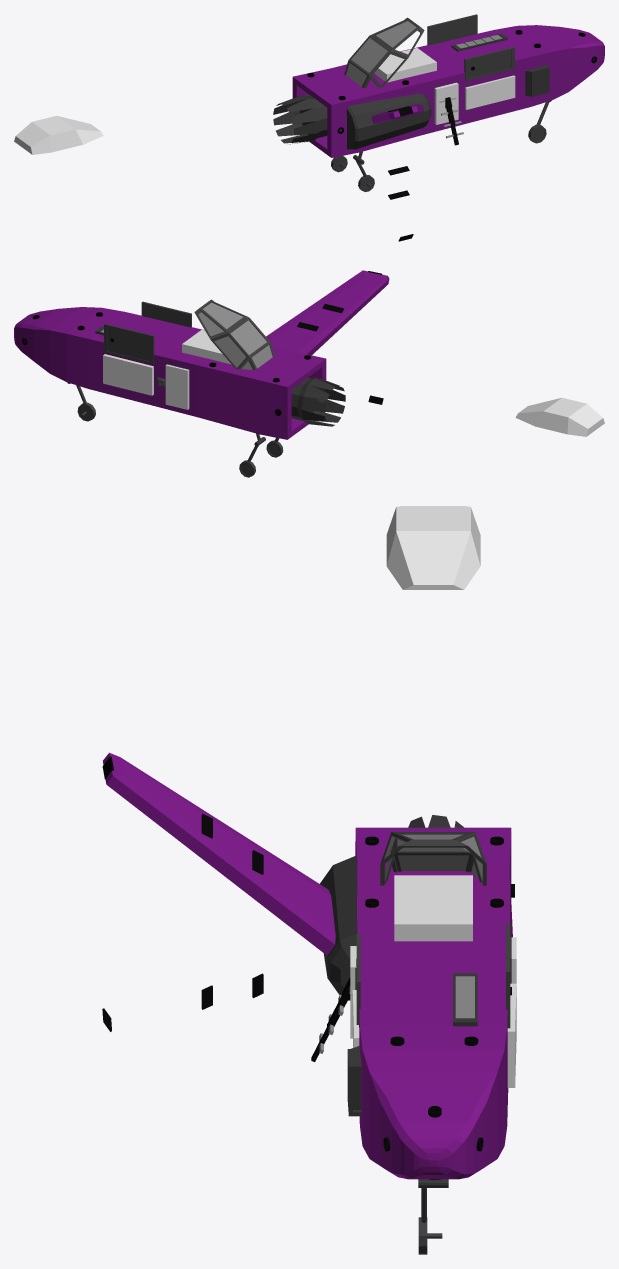
The model's file is FighterGen7_purple_open.glb.
3 views of the same model, one above another, from view 1: azimuth 30°, elevation 25°; view 2: azimuth 150°, elevation 25°; view 3: azimuth 270°, elevation 25° (orthographic). The views are drawn at different scales.
Parts seen in each view (by area): view 1: Body, Cylinder, Cube.100, Cylinder.002, Cube.090, Cube.021, Cube.099, Cube.116, Cube.114, Cube.080, Cube.043, Cube.104 (+2 smaller); view 2: Body, Cube.003, Cube.100, Cylinder.002, Cube.022, Cube.114, Cube.099, Cube.072, Cube.090, Cube.116, Cube.104, Cube.102 (+1 smaller); view 3: Body, Cube.003, Cube.100, Cube.090, Cylinder, Cube.099, Cube.106, Cube.043.
Part boxes in pixels (bbox=[...]): Body: bbox=[292, 25, 604, 157]; Cylinder: bbox=[346, 93, 431, 149]; Cube.100: bbox=[14, 115, 103, 154]; Cylinder.002: bbox=[273, 95, 327, 144]; Cube.090: bbox=[374, 48, 436, 82]; Cube.021: bbox=[465, 75, 515, 109]; Cube.099: bbox=[344, 17, 424, 88]; Cube.116: bbox=[464, 47, 514, 81]; Cube.114: bbox=[427, 14, 477, 45]; Cube.080: bbox=[434, 82, 458, 124]; Cube.043: bbox=[525, 65, 549, 96]; Cube.104: bbox=[351, 38, 387, 72]; Body: bbox=[14, 307, 326, 439]; Cube.003: bbox=[266, 270, 389, 355]; Cube.100: bbox=[515, 397, 604, 436]; Cylinder.002: bbox=[291, 377, 345, 426]; Cube.022: bbox=[103, 354, 153, 395]; Cube.114: bbox=[104, 323, 154, 364]; Cube.099: bbox=[194, 299, 274, 369]; Cube.072: bbox=[165, 364, 189, 409]; Cube.090: bbox=[182, 330, 231, 364]; Cube.116: bbox=[141, 301, 191, 327]; Cube.104: bbox=[230, 320, 266, 354]; Cube.102: bbox=[203, 302, 243, 329]; Body: bbox=[355, 827, 512, 1179]; Cube.003: bbox=[103, 752, 335, 955]; Cube.100: bbox=[386, 506, 480, 589]; Cube.090: bbox=[394, 875, 472, 941]; Cylinder: bbox=[320, 855, 357, 1000]; Cube.099: bbox=[380, 832, 486, 885]; Cube.106: bbox=[398, 855, 468, 870]; Cube.043: bbox=[347, 1046, 361, 1116].
Bounding box in the file's own units: 33.95 × 8.26 × 10.52.
